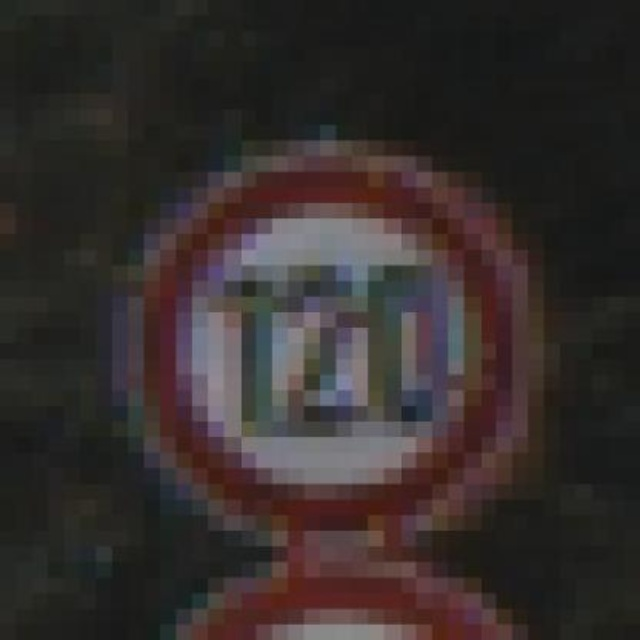Tốc độ tối đa cho phép 120km/h: (144, 159, 518, 542)
